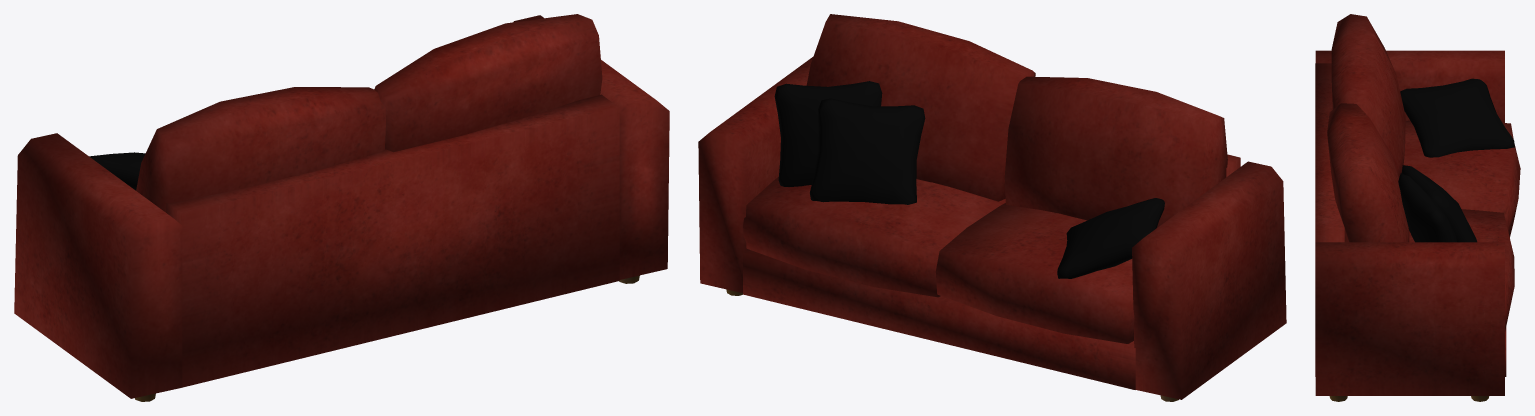
Rendered from Couch.fbx.
3 renders of one model, left to right at view 1: azimuth 30°, elevation 25°; view 2: azimuth 150°, elevation 25°; view 3: azimuth 270°, elevation 25°, orthographic. The views are drawn at different scales.
Parts seen in each view (by area): view 1: Couch; view 2: Couch; view 3: Couch.
Part boxes in pixels (x1=…): Couch: x1=14, y1=14, x2=669, y2=401; Couch: x1=698, y1=14, x2=1286, y2=401; Couch: x1=1315, y1=14, x2=1520, y2=401.
Bounding box in the file's own units: 2.49 × 1.01 × 1.17.
